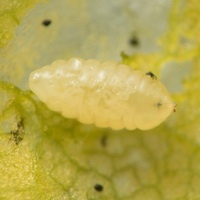insect: (29, 58, 173, 129), (146, 72, 156, 79)
